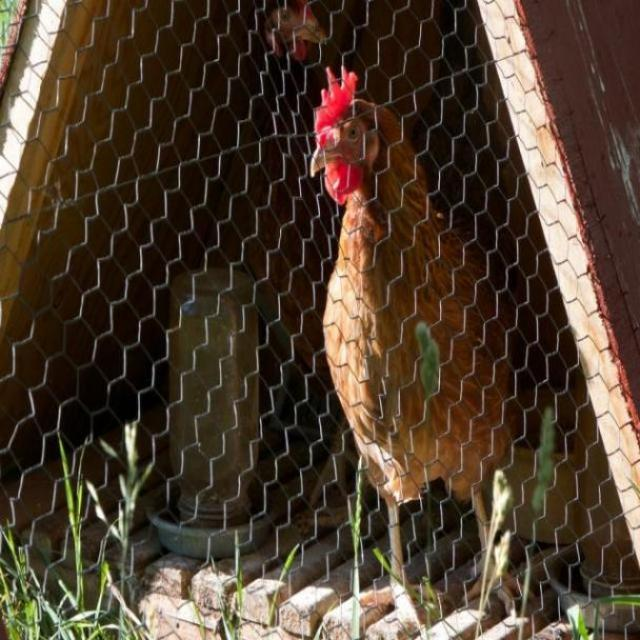Chicken: (311, 68, 518, 620)
